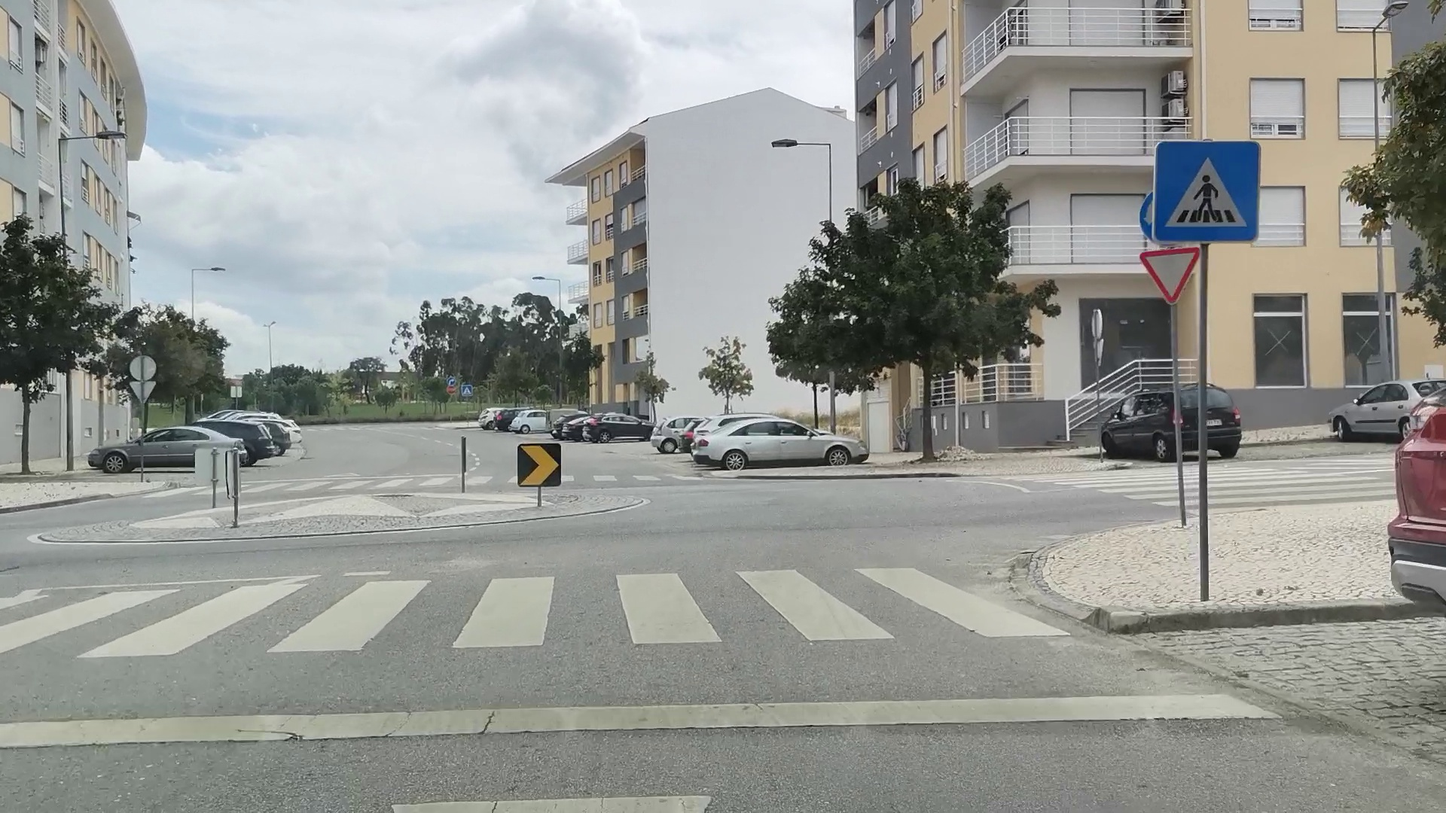Stairs: (0, 562, 1073, 660), (1014, 448, 1405, 507), (131, 469, 726, 492)
